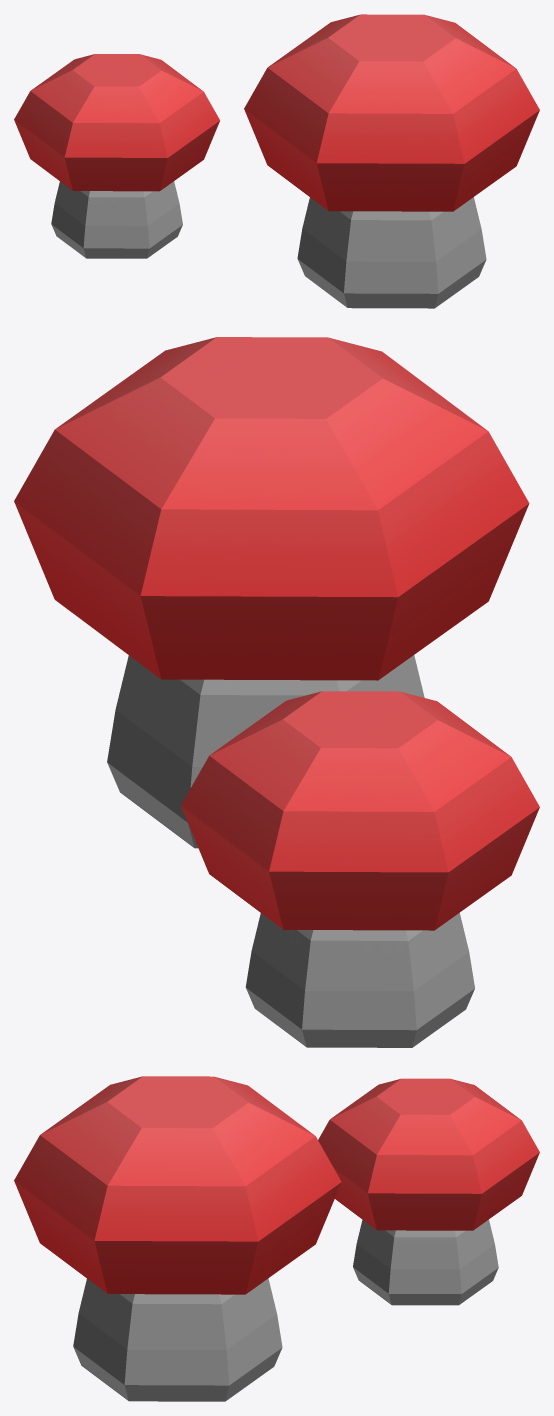
Rendered from FBX_MushroomFat.fbx.
The picture shows the model from 3 angles, top to bottom: view 1: azimuth 30°, elevation 25°; view 2: azimuth 150°, elevation 25°; view 3: azimuth 270°, elevation 25°; orthographic projection. The views are drawn at different scales.
Parts seen in each view (by area): view 1: M_MushroomFat; view 2: M_MushroomFat; view 3: M_MushroomFat.
Boxes of the visible parts, bbox=[...] form: M_MushroomFat: bbox=[14, 14, 539, 308]; M_MushroomFat: bbox=[14, 337, 539, 1047]; M_MushroomFat: bbox=[14, 1076, 539, 1401].
Bounding box in the file's own units: 0.1708 × 0.1138 × 0.1994.
